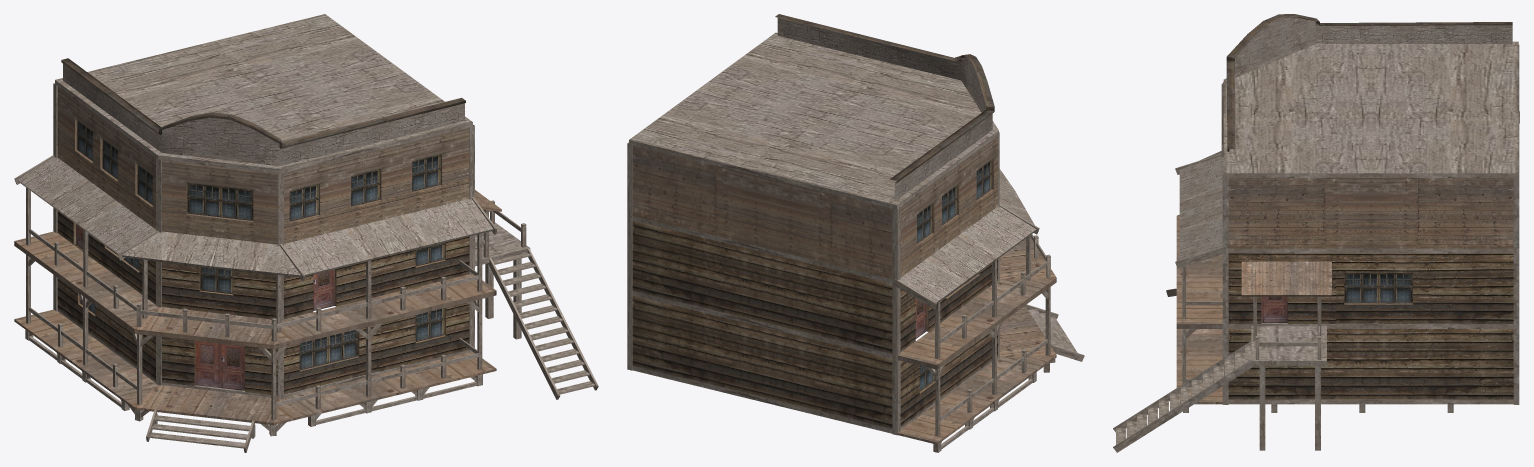
File: western_bar.glb
The picture shows the model from 3 angles, left to right: view 1: azimuth 30°, elevation 25°; view 2: azimuth 150°, elevation 25°; view 3: azimuth 270°, elevation 25°; orthographic projection.
Visible parts, largest first — view 1: Box223_Material #30_0, Box219_Material #30_0, Object067_Material #30_0, Box158_Material #30_0, Object058_Material #30_0, Box220_Material #30_0, Box222_Material #30_0, Object052_Material #30_0, Object049_Material #30_0, Object042_Material #30_0, Object053_Material #30_0, Box221_Material #30_0 (+27 smaller); view 2: Box223_Material #30_0, Object063_Material #30_0, Object065_Material #30_0, Object060_Material #30_0, Object067_Material #30_0, Box158_Material #30_0, Box219_Material #30_0, Box222_Material #30_0, Object056_Material #30_0, Object055_Material #30_0, Object045_Material #30_0, Box309_Material #30_0 (+10 smaller); view 3: Box223_Material #30_0, Object064_Material #30_0, Object059_Material #30_0, Object062_Material #30_0, Object067_Material #30_0, Object061_Material #30_0, Box220_Material #30_0, Box248_Material #30_0, Box219_Material #30_0, Box239_Material #30_0, Box158_Material #30_0, Box218_Material #30_0 (+8 smaller).
Part boxes in pixels (x1,y1,x2,y2): Box223_Material #30_0: (55,14,472,173); Box219_Material #30_0: (14,231,496,349); Object067_Material #30_0: (61,58,465,166); Box158_Material #30_0: (14,309,496,425); Object058_Material #30_0: (162,160,277,244); Box220_Material #30_0: (283,199,493,276); Box222_Material #30_0: (17,156,155,254); Object052_Material #30_0: (328,144,402,232); Object049_Material #30_0: (162,262,275,319); Object042_Material #30_0: (162,337,277,395); Object053_Material #30_0: (403,128,469,214); Box221_Material #30_0: (121,231,300,277); Box223_Material #30_0: (629,32,998,209); Object063_Material #30_0: (632,220,892,353); Object065_Material #30_0: (632,145,892,278); Object060_Material #30_0: (632,295,892,428); Object067_Material #30_0: (775,14,994,201); Box158_Material #30_0: (898,306,1056,444); Box219_Material #30_0: (898,238,1056,369); Box222_Material #30_0: (899,206,1036,303); Object056_Material #30_0: (900,180,938,276); Object055_Material #30_0: (938,156,971,249); Object045_Material #30_0: (900,353,960,426); Box309_Material #30_0: (892,207,900,435); Box223_Material #30_0: (1223,41,1518,177); Object064_Material #30_0: (1228,178,1513,248); Object059_Material #30_0: (1228,329,1513,399); Object062_Material #30_0: (1336,253,1513,323); Object067_Material #30_0: (1226,14,1512,151); Object061_Material #30_0: (1228,253,1336,323); Box220_Material #30_0: (1179,156,1223,259); Box248_Material #30_0: (1241,261,1331,296); Box219_Material #30_0: (1176,214,1222,328); Box239_Material #30_0: (1251,326,1326,365); Box158_Material #30_0: (1176,329,1222,404); Box218_Material #30_0: (1228,248,1513,253).
Bounding box in the file's own units: 16.04 × 11.48 × 14.49.
1 material, 1 textured.
